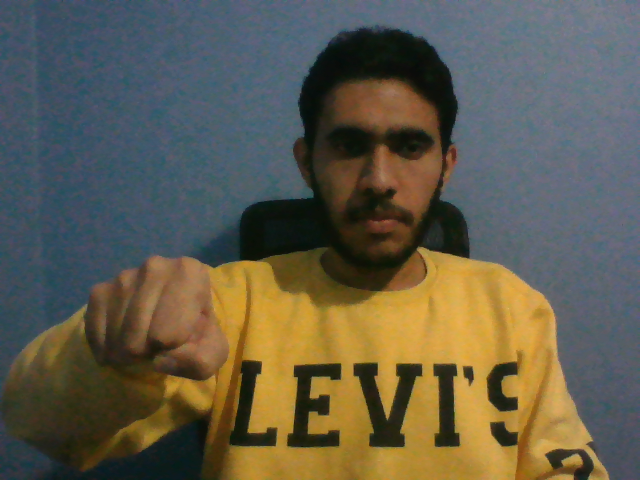yes: (78, 256, 229, 387)
